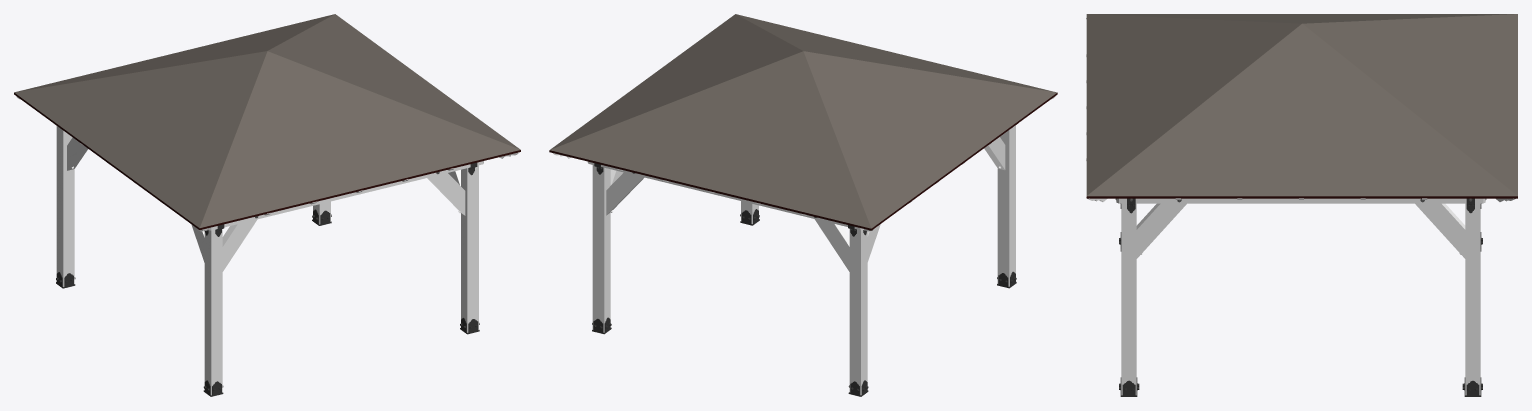
The model's file is saratoga-14x14-classic.obj.
3 views of the same model, side by side, from view 1: azimuth 30°, elevation 25°; view 2: azimuth 150°, elevation 25°; view 3: azimuth 270°, elevation 25° (orthographic). The views are drawn at different scales.
Parts seen in each view (by area): view 1: Mesh226 shingles roof Group1 Model, Mesh177 Group70 Component_92_4 Group1 Model, Mesh79 Group42 Component_92_2 Group1 Model, Mesh128 Group56 Component_92_3 Group1 Model, Mesh227 roof Group1 Model, Mesh75 Component_135_1 Group1 Model, Mesh217 Component_91_7 Component_92_4 Group1 Model, Mesh119 Component_91_3 Component_92_2 Group1 Model, Mesh172 Component_91_6 Component_92_3 Group1 Model; view 2: Mesh226 shingles roof Group1 Model, Mesh128 Group56 Component_92_3 Group1 Model, Mesh1 Group3 Component_92_1 Group2 Group1 Model, Mesh177 Group70 Component_92_4 Group1 Model, Mesh227 roof Group1 Model, Mesh168 Component_91_5 Component_92_3 Group1 Model, Mesh41 Component_91_1 Component_92_1 Group2 Group1 Model, Mesh77 Component_135_2 Group1 Model, Mesh221 Component_91_8 Component_92_4 Group1 Model; view 3: Mesh226 shingles roof Group1 Model, Mesh1 Group3 Component_92_1 Group2 Group1 Model, Mesh79 Group42 Component_92_2 Group1 Model, Mesh78 Component_134_2 Group1 Model, Mesh227 roof Group1 Model, Mesh123 Component_91_4 Component_92_2 Group1 Model, Mesh45 Component_91_2 Component_92_1 Group2 Group1 Model.
Part boxes in pixels (left/top/right/bottom): Mesh226 shingles roof Group1 Model: left=14, top=14, right=520, bottom=228; Mesh177 Group70 Component_92_4 Group1 Model: left=204, top=229, right=222, bottom=395; Mesh79 Group42 Component_92_2 Group1 Model: left=461, top=165, right=478, bottom=332; Mesh128 Group56 Component_92_3 Group1 Model: left=56, top=126, right=74, bottom=286; Mesh227 roof Group1 Model: left=14, top=92, right=520, bottom=230; Mesh75 Component_135_1 Group1 Model: left=207, top=161, right=483, bottom=230; Mesh217 Component_91_7 Component_92_4 Group1 Model: left=222, top=219, right=257, bottom=271; Mesh119 Component_91_3 Component_92_2 Group1 Model: left=427, top=173, right=465, bottom=215; Mesh172 Component_91_6 Component_92_3 Group1 Model: left=67, top=137, right=87, bottom=170; Mesh226 shingles roof Group1 Model: left=550, top=14, right=1056, bottom=228; Mesh128 Group56 Component_92_3 Group1 Model: left=849, top=229, right=867, bottom=395; Mesh1 Group3 Component_92_1 Group2 Group1 Model: left=592, top=165, right=610, bottom=332; Mesh177 Group70 Component_92_4 Group1 Model: left=997, top=125, right=1015, bottom=286; Mesh227 roof Group1 Model: left=549, top=92, right=1057, bottom=230; Mesh168 Component_91_5 Component_92_3 Group1 Model: left=814, top=219, right=849, bottom=271; Mesh41 Component_91_1 Component_92_1 Group2 Group1 Model: left=606, top=172, right=644, bottom=215; Mesh77 Component_135_2 Group1 Model: left=587, top=161, right=863, bottom=230; Mesh221 Component_91_8 Component_92_4 Group1 Model: left=984, top=137, right=1005, bottom=170; Mesh226 shingles roof Group1 Model: left=1086, top=14, right=1517, bottom=196; Mesh1 Group3 Component_92_1 Group2 Group1 Model: left=1465, top=203, right=1480, bottom=395; Mesh79 Group42 Component_92_2 Group1 Model: left=1121, top=203, right=1136, bottom=395; Mesh78 Component_134_2 Group1 Model: left=1126, top=198, right=1475, bottom=203; Mesh227 roof Group1 Model: left=1086, top=196, right=1517, bottom=198; Mesh123 Component_91_4 Component_92_2 Group1 Model: left=1136, top=203, right=1186, bottom=258; Mesh45 Component_91_2 Component_92_1 Group2 Group1 Model: left=1415, top=203, right=1465, bottom=258.
Size of the model in its own units: 168 by 128 by 168.
